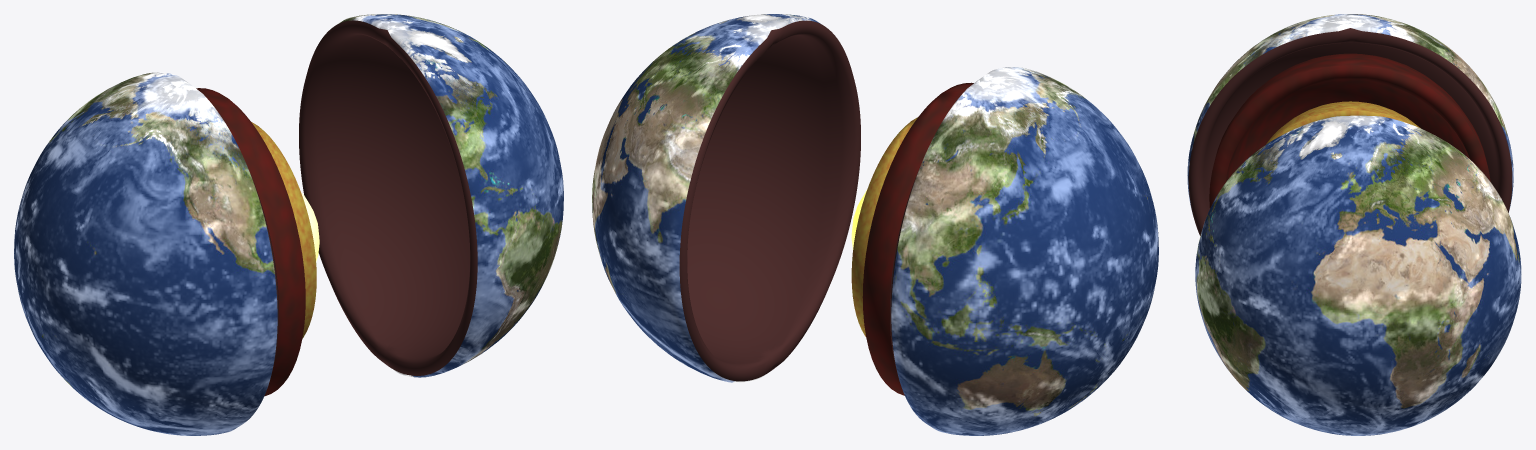
The model's file is core_model-v1.glb.
3 views of the same model, side by side, from view 1: azimuth 30°, elevation 25°; view 2: azimuth 150°, elevation 25°; view 3: azimuth 270°, elevation 25° (orthographic). The views are drawn at different scales.
Visible parts, largest first — view 1: Sphere, Sphere.001, Sphere.002, Sphere.003; view 2: Sphere, Sphere.001, Sphere.002, Sphere.003; view 3: Sphere.001, Sphere, Sphere.002, Sphere.003.
Part boxes in pixels (bbox=[...]): Sphere: bbox=[14, 72, 278, 435]; Sphere.001: bbox=[299, 14, 563, 377]; Sphere.002: bbox=[196, 88, 305, 396]; Sphere.003: bbox=[251, 122, 316, 338]; Sphere: bbox=[890, 67, 1158, 435]; Sphere.001: bbox=[592, 14, 860, 382]; Sphere.002: bbox=[862, 82, 973, 395]; Sphere.003: bbox=[851, 117, 917, 336]; Sphere.001: bbox=[1195, 115, 1521, 435]; Sphere: bbox=[1187, 14, 1513, 235]; Sphere.002: bbox=[1209, 53, 1490, 208]; Sphere.003: bbox=[1266, 101, 1420, 144].
Size of the model in its own units: 4.6 by 2.93 by 2.88.
5 materials, 3 textured.
